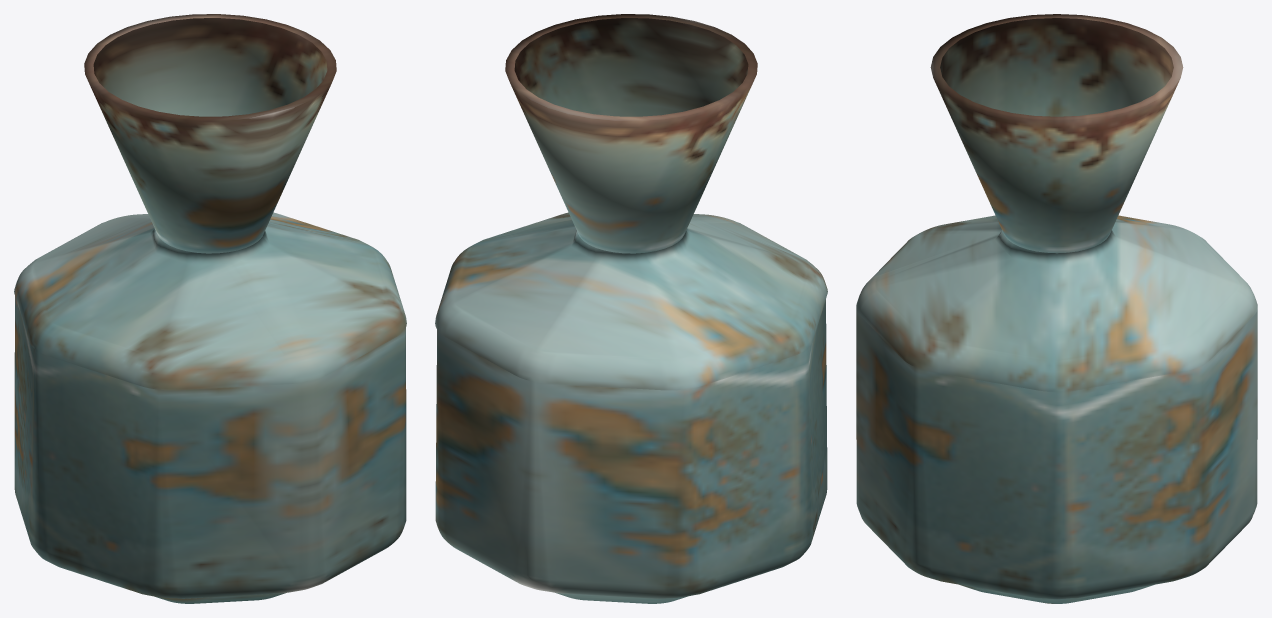
The model's file is shoppify_artfact.glb.
The picture shows the model from 3 angles, left to right: view 1: azimuth 30°, elevation 25°; view 2: azimuth 150°, elevation 25°; view 3: azimuth 270°, elevation 25°; orthographic projection.
Parts seen in each view (by area): view 1: Circle; view 2: Circle; view 3: Circle.
Part boxes in pixels (bbox=[...]): Circle: bbox=[14, 14, 406, 603]; Circle: bbox=[435, 14, 827, 603]; Circle: bbox=[856, 14, 1257, 603].
Size of the model in its own units: 1.96 by 2.62 by 1.96.
Materials: 1 (1 with a texture image).
